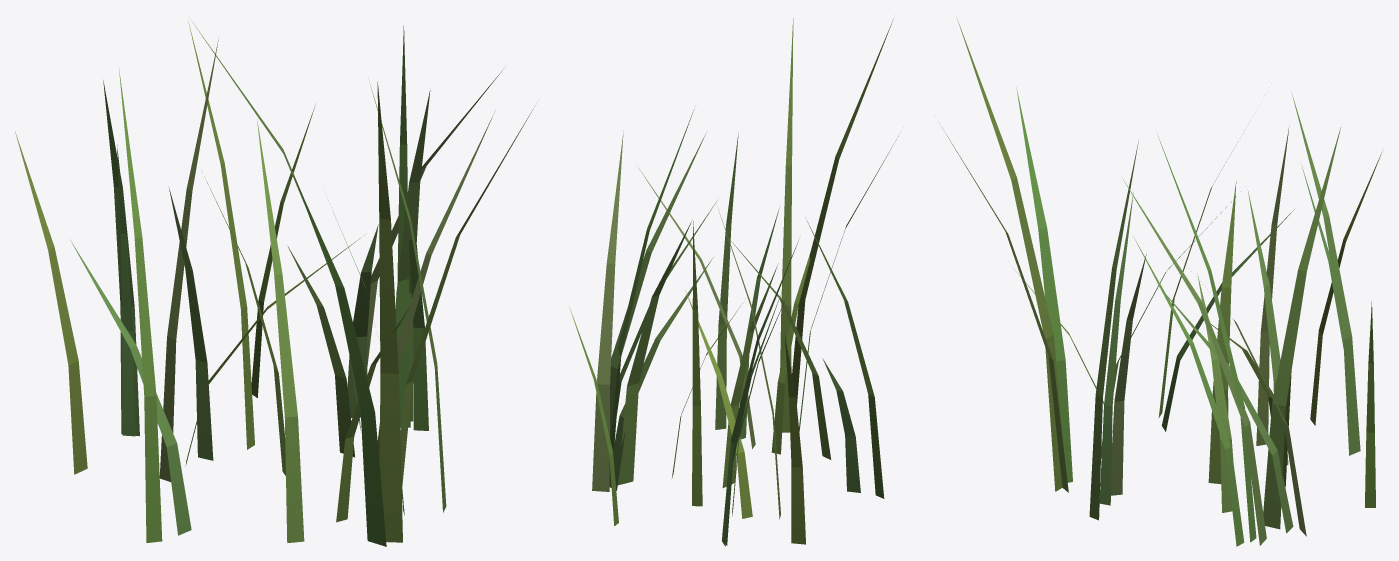
Rendered from MeadowGrass.glb.
3 views of the same model, side by side, from view 1: azimuth 30°, elevation 25°; view 2: azimuth 150°, elevation 25°; view 3: azimuth 270°, elevation 25° (orthographic). The views are drawn at different scales.
Parts seen in each view (by area): view 1: MeadowGrass; view 2: MeadowGrass; view 3: MeadowGrass.
Boxes of the visible parts, x1,y1,x2,y2 form: MeadowGrass: (15,21,535,546); MeadowGrass: (569,18,898,546); MeadowGrass: (942,19,1382,546).
Size of the model in its own units: 0.2668 by 0.38 by 0.3505.
